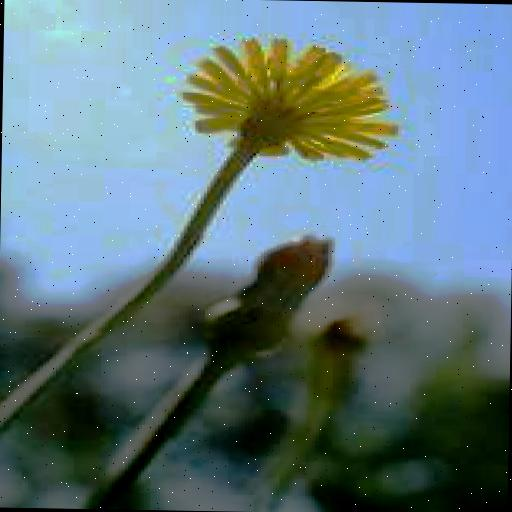dandelion: (182, 35, 400, 167)
